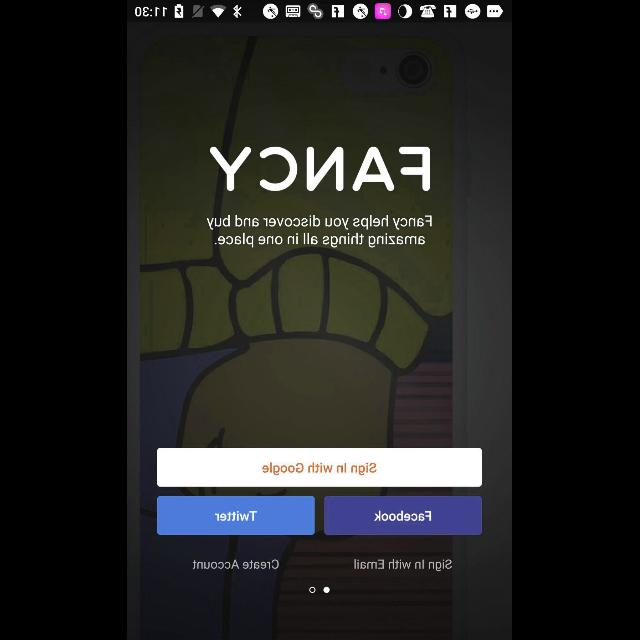backgroundimage: (128, 22, 512, 640)
pageindicator: (310, 586, 330, 594)
text: (210, 146, 432, 192), (207, 215, 433, 248), (355, 558, 453, 572), (192, 558, 280, 570)
textbutton: (158, 448, 482, 487), (158, 496, 316, 534), (325, 496, 483, 534)
uppertaskbar: (128, 1, 512, 23)
